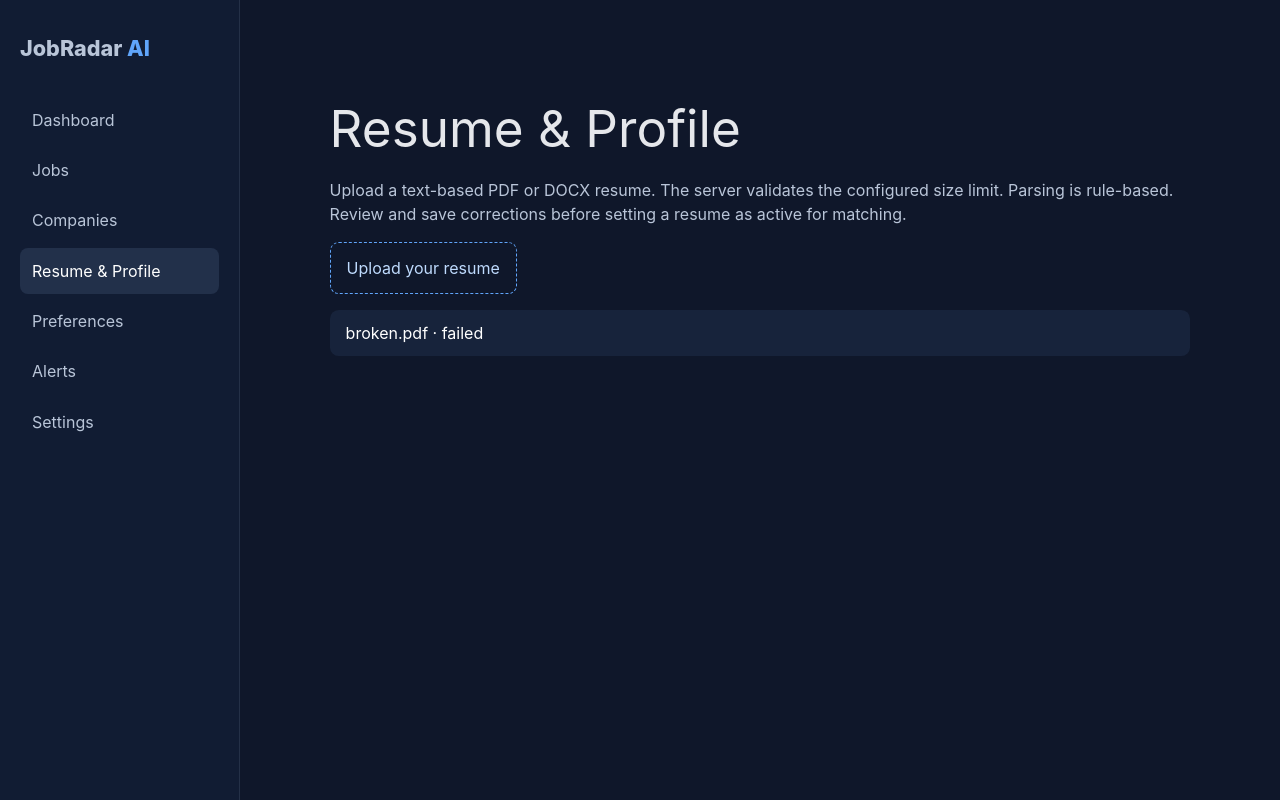
Scenario: deletes a failed resume without parsed data
Click the button "broken.pdf · failed": (387, 333) [330,310,1190,356]
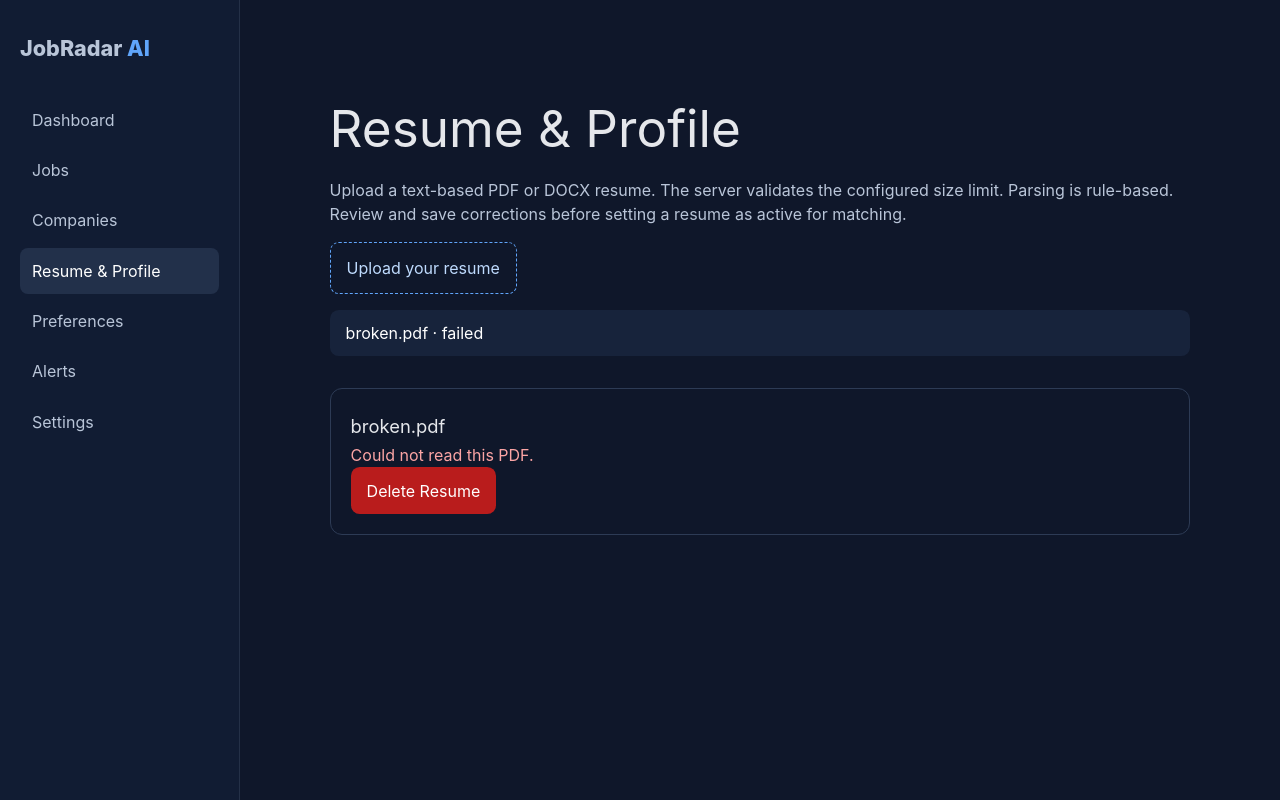
Expected: the text "Could not read this PDF." is shown, [351,445,534,465]
Click the button "Delete Resume": (423, 490) [351,467,496,514]
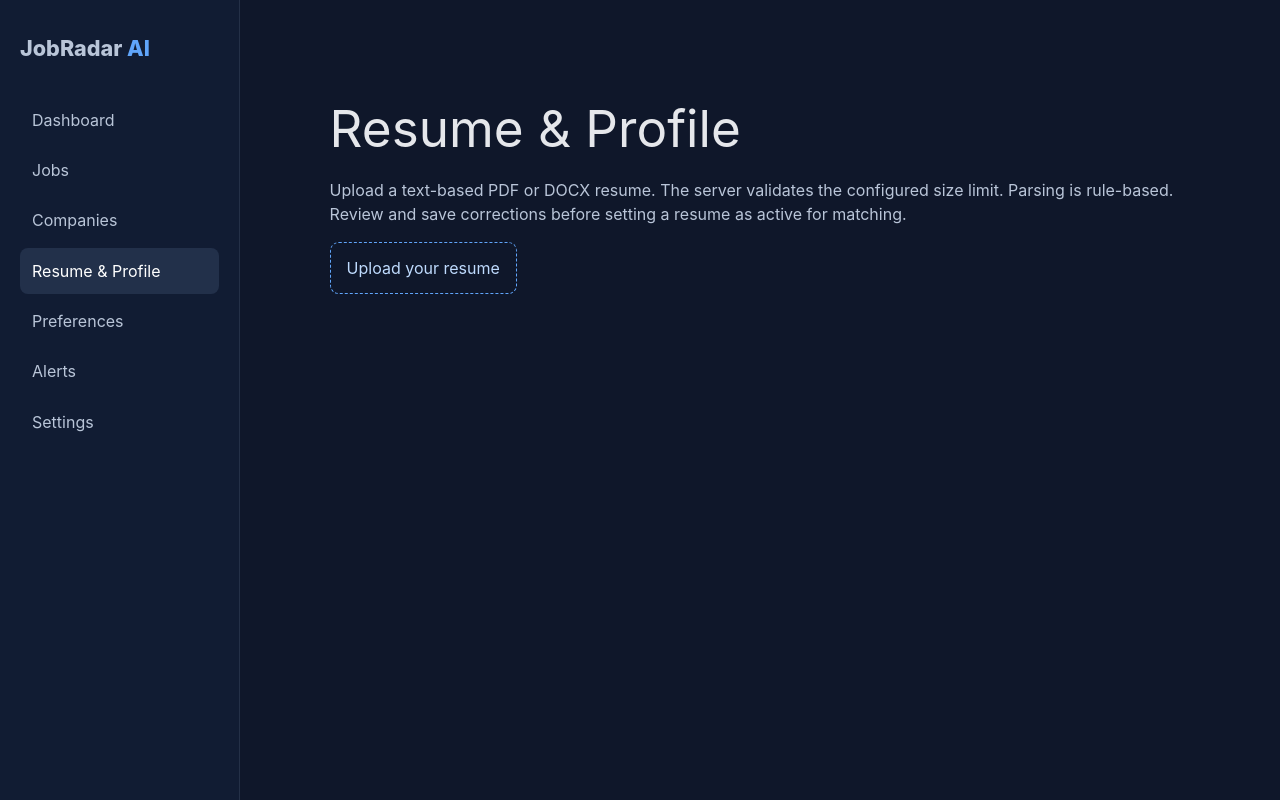
Expected: the button "broken.pdf" is gone
